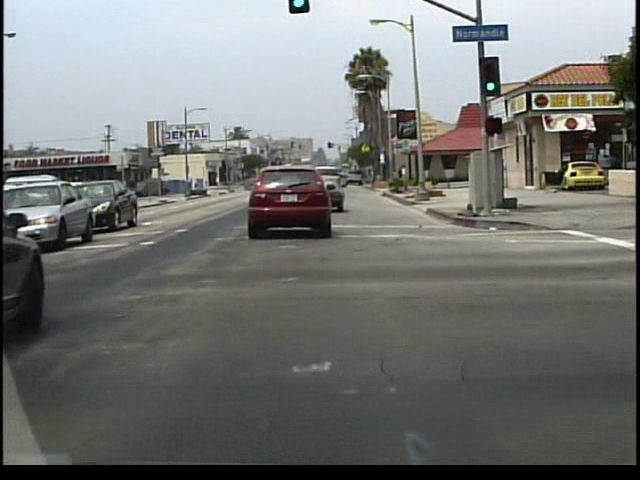person: (606, 150, 623, 197)
